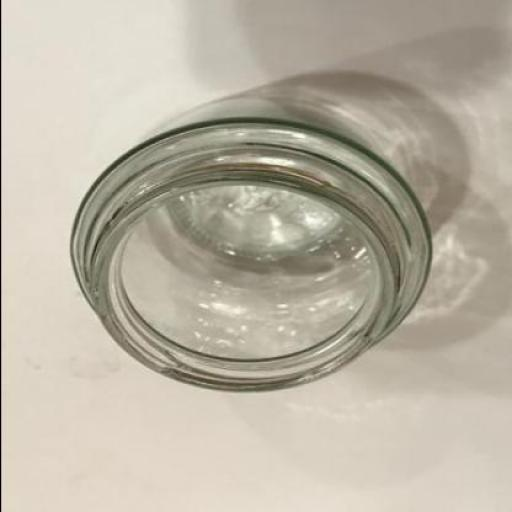glass: (65, 98, 431, 392)
